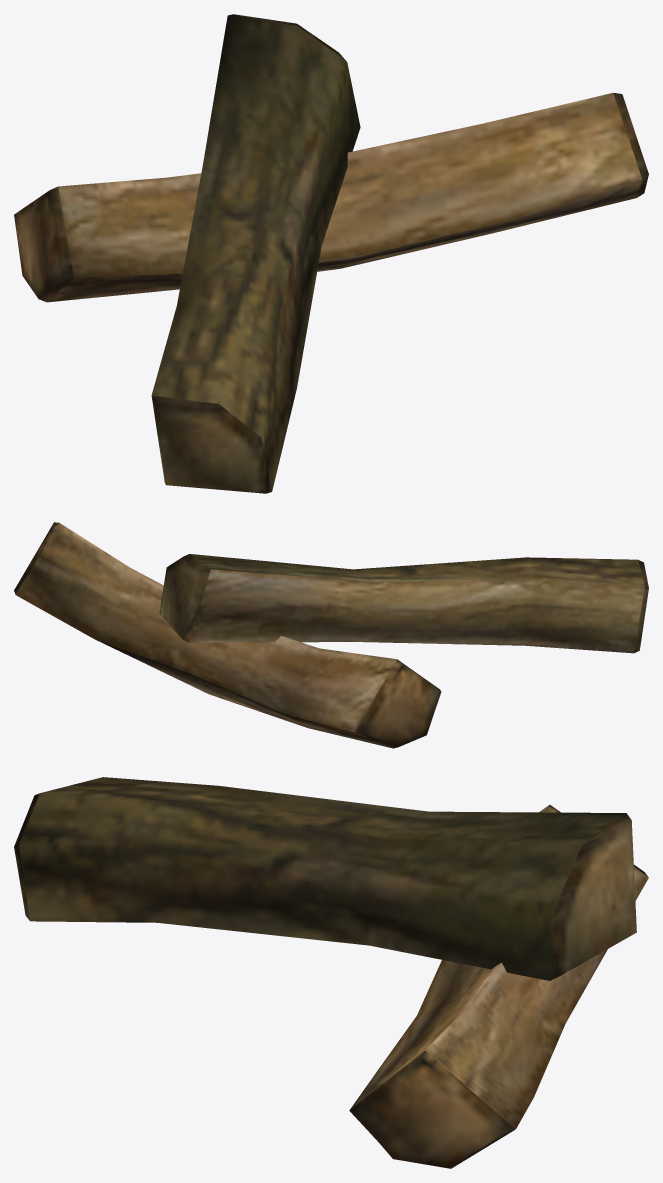
3 renders of one model, top to bottom at view 1: azimuth 30°, elevation 25°; view 2: azimuth 150°, elevation 25°; view 3: azimuth 270°, elevation 25°, orthographic. The views are drawn at different scales.
Parts seen in each view (by area): view 1: LV_Common_Object_A_Woodpile07_SM_CNH; view 2: LV_Common_Object_A_Woodpile07_SM_CNH; view 3: LV_Common_Object_A_Woodpile07_SM_CNH.
Boxes of the visible parts, bbox=[...] form: LV_Common_Object_A_Woodpile07_SM_CNH: bbox=[14, 14, 648, 493]; LV_Common_Object_A_Woodpile07_SM_CNH: bbox=[14, 522, 648, 748]; LV_Common_Object_A_Woodpile07_SM_CNH: bbox=[14, 777, 648, 1168].
Size of the model in its own units: 0.1891 by 0.0608 by 0.1518.
1 material, 1 textured.
